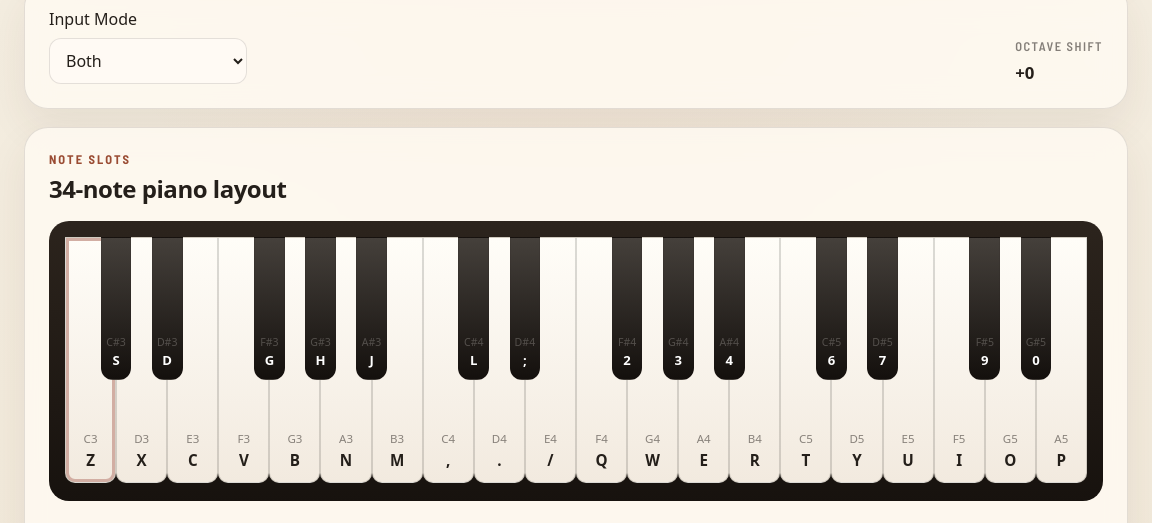
Scenario: KeyboardSetupScreen › does not claim a rejected binding was saved and preserves restart read-back
This screenshot has width=1152, height=523.
(page scrolled)
Click the button named "Bind C3 to Z" at (91, 360), box [65,237,116,483]
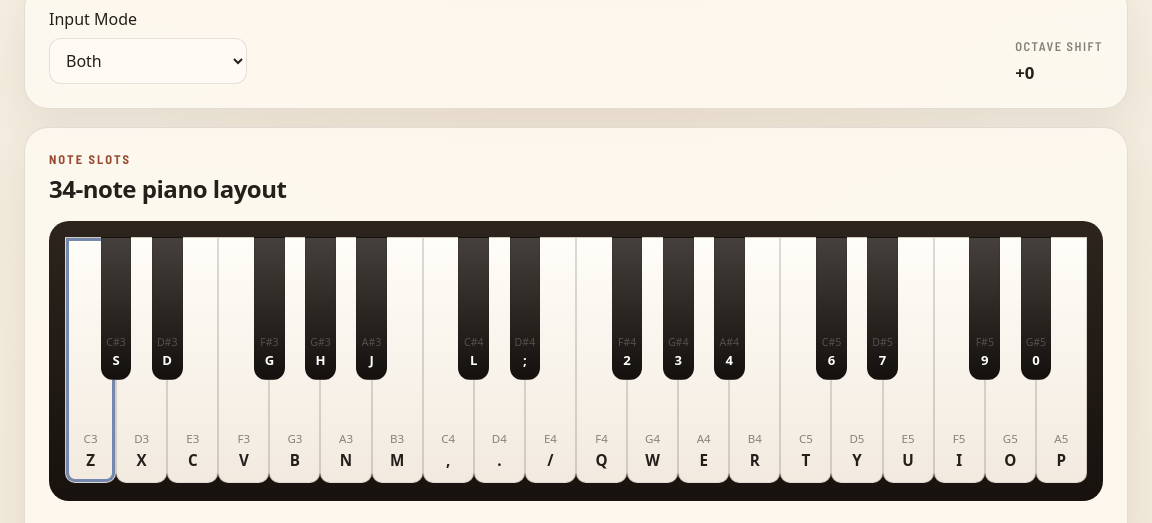
Press KeyA
(page scrolled)
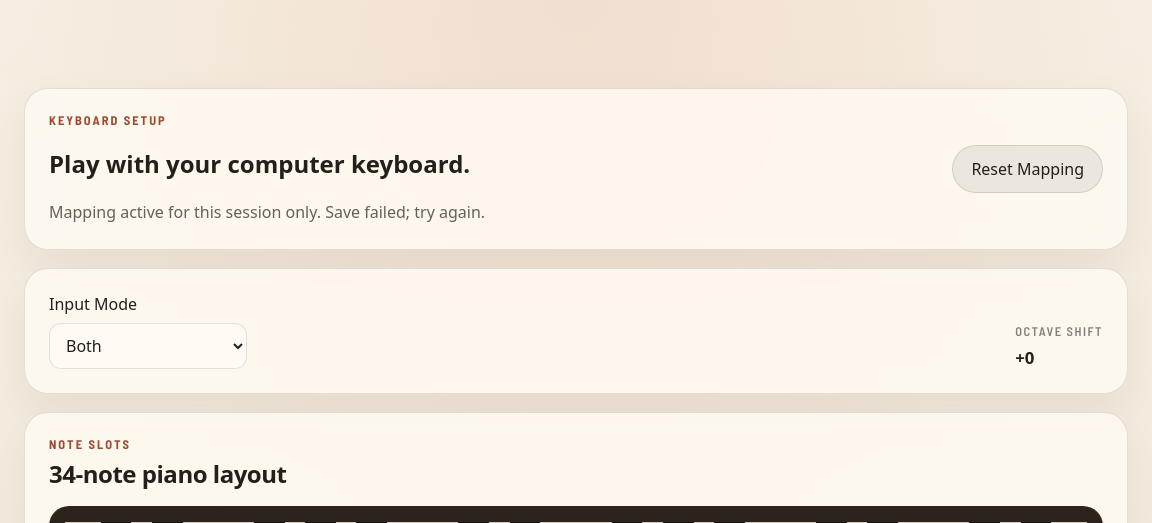
Result: the text "Mapping active for this session only" is shown at [49,201,485,223]
